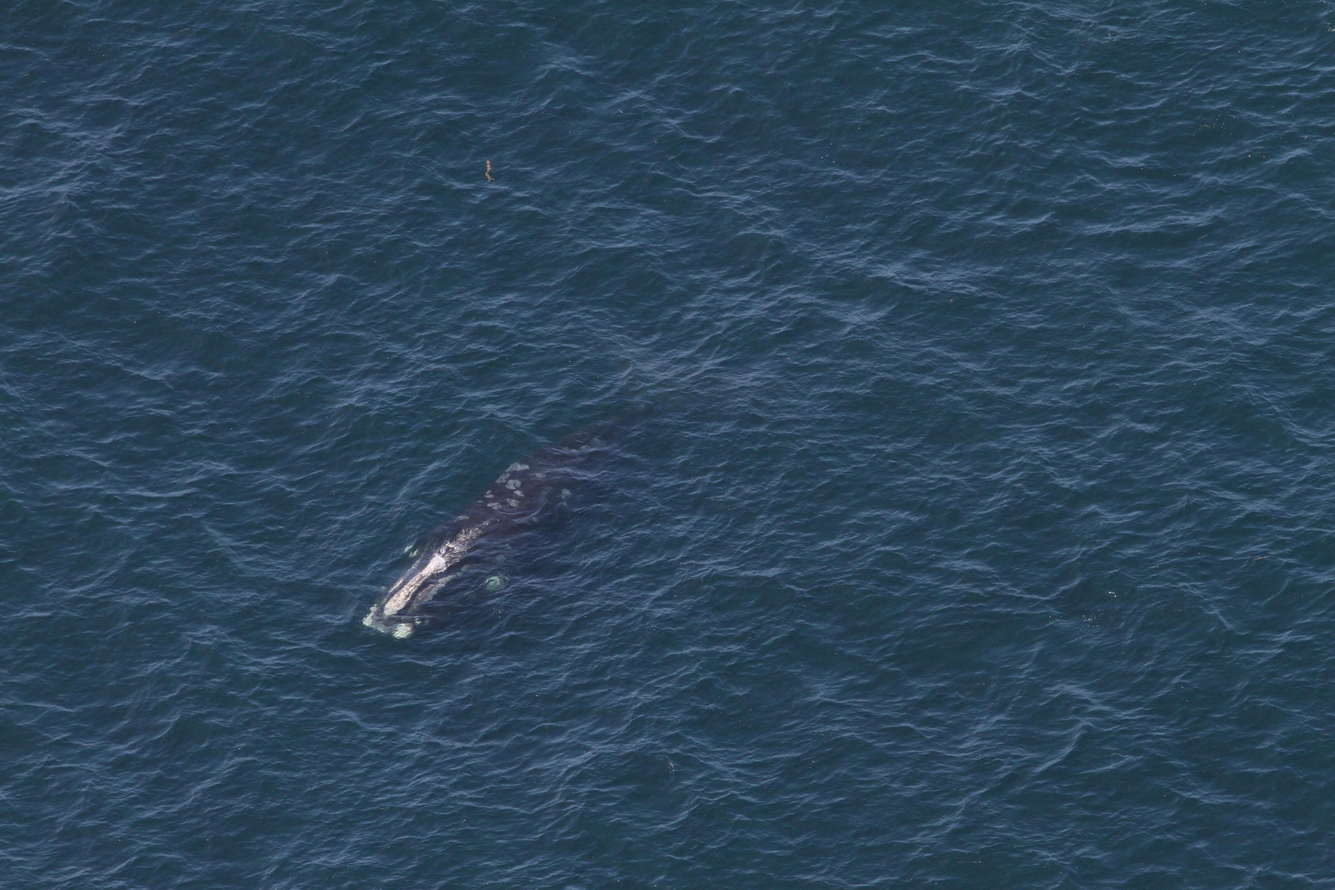whale: (354, 381, 676, 642)
